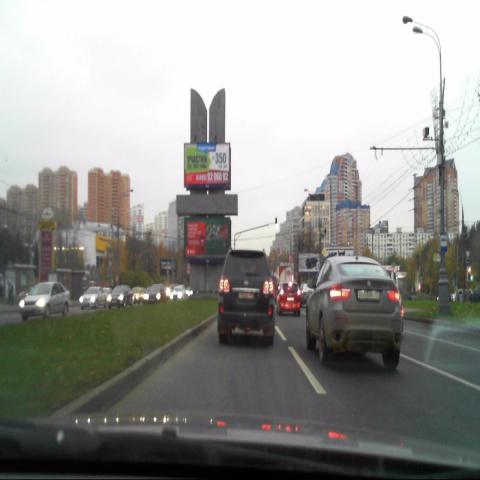5_16: (440, 233, 448, 253)
